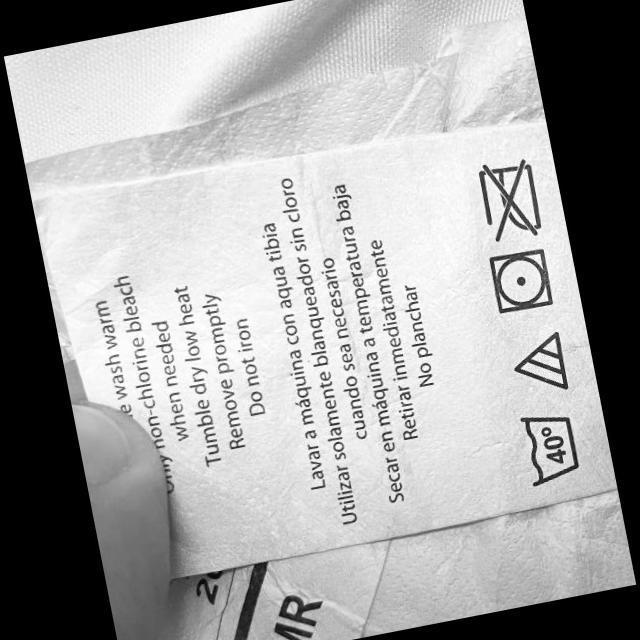40C: (516, 404, 586, 489)
DN_iron: (472, 152, 550, 246)
non_chlorine_bleach: (506, 327, 574, 401)
tumble_dry_low: (484, 243, 558, 317)
